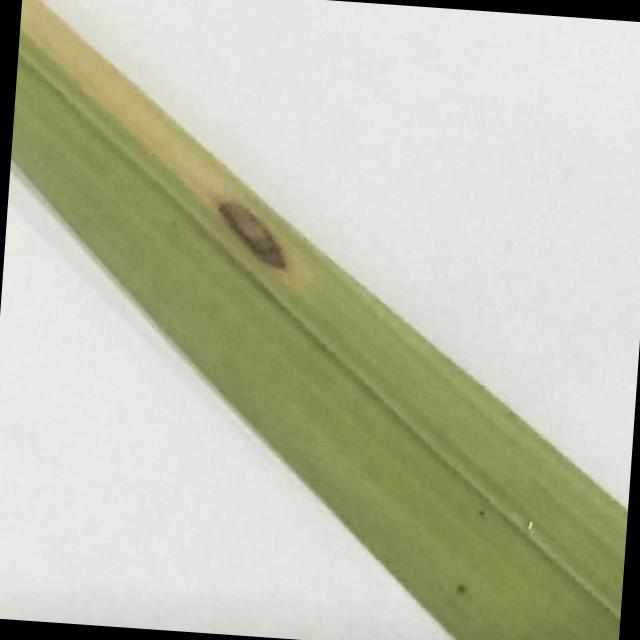Rice_Blast: (204, 178, 306, 288)
